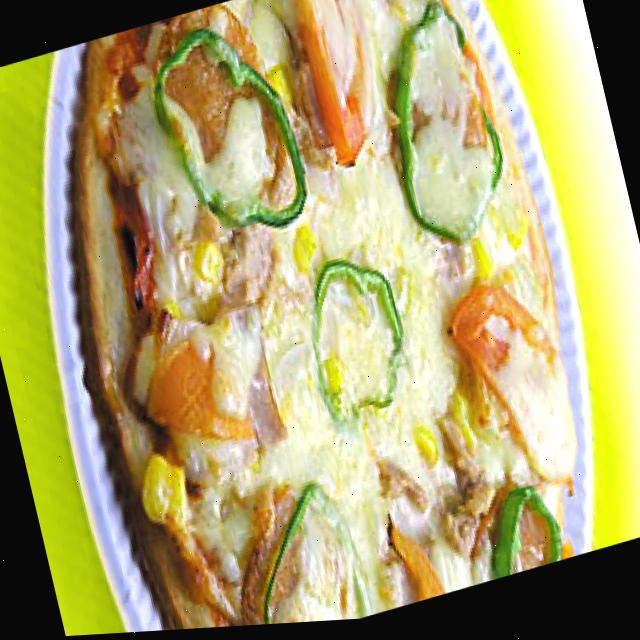汉堡快餐: (5, 0, 622, 640)
